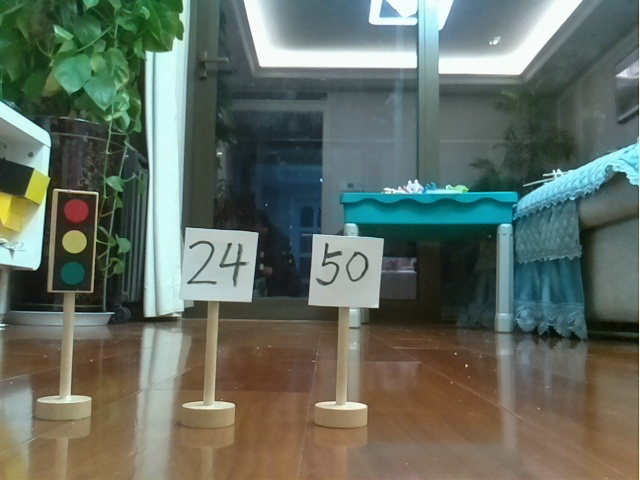Red Traffic Light: (36, 185, 106, 426)
Speed Limit 24: (174, 219, 262, 429)
Speed Limit 50: (299, 224, 392, 436)
